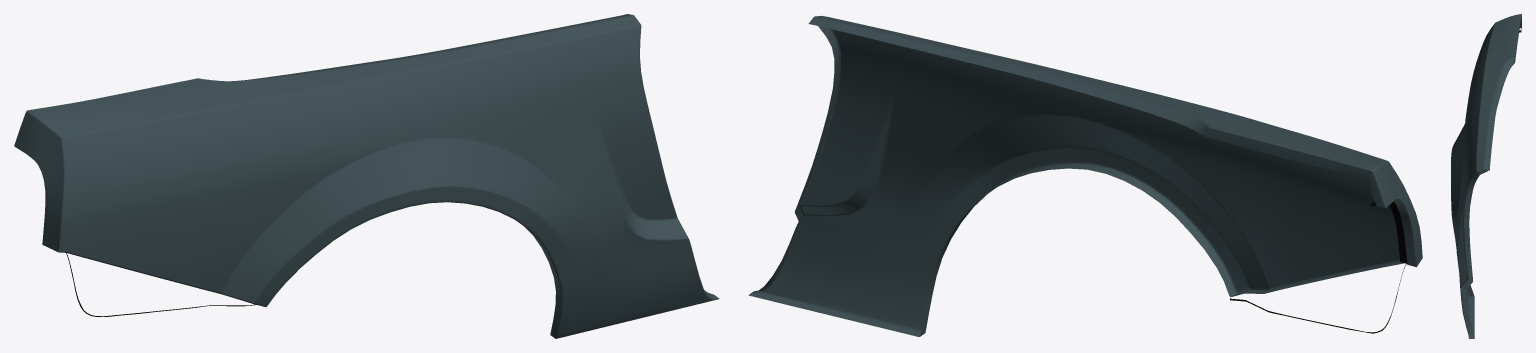
3 views of the same model, side by side, from view 1: azimuth 30°, elevation 25°; view 2: azimuth 150°, elevation 25°; view 3: azimuth 270°, elevation 25° (orthographic). The views are drawn at different scales.
Parts seen in each view (by area): view 1: P222_15_381B_R_1_DaS_P222_15_381B_R, P222_15_381B_R_1_DaS_P222_15_381B_R_E; view 2: P222_15_381B_R_1_DaS_P222_15_381B_R, P222_15_381B_R_1_DaS_P222_15_381B_R_E, P222_15_381B_R_P222_15_381B_R_2_D; view 3: P222_15_381B_R_1_DaS_P222_15_381B_R, P222_15_381B_R_1_DaS_P222_15_381B_R_E.
Boxes of the visible parts, box(x1,y1,x2,y2) form: P222_15_381B_R_1_DaS_P222_15_381B_R: box(14, 14, 719, 338); P222_15_381B_R_1_DaS_P222_15_381B_R_E: box(14, 14, 718, 338); P222_15_381B_R_1_DaS_P222_15_381B_R: box(748, 15, 1422, 336); P222_15_381B_R_1_DaS_P222_15_381B_R_E: box(756, 16, 1417, 332); P222_15_381B_R_P222_15_381B_R_2_D: box(1230, 201, 1407, 333); P222_15_381B_R_1_DaS_P222_15_381B_R: box(1451, 14, 1521, 338); P222_15_381B_R_1_DaS_P222_15_381B_R_E: box(1456, 14, 1521, 338).
Bounding box in the file's own units: 172 × 77.48 × 30.79.
